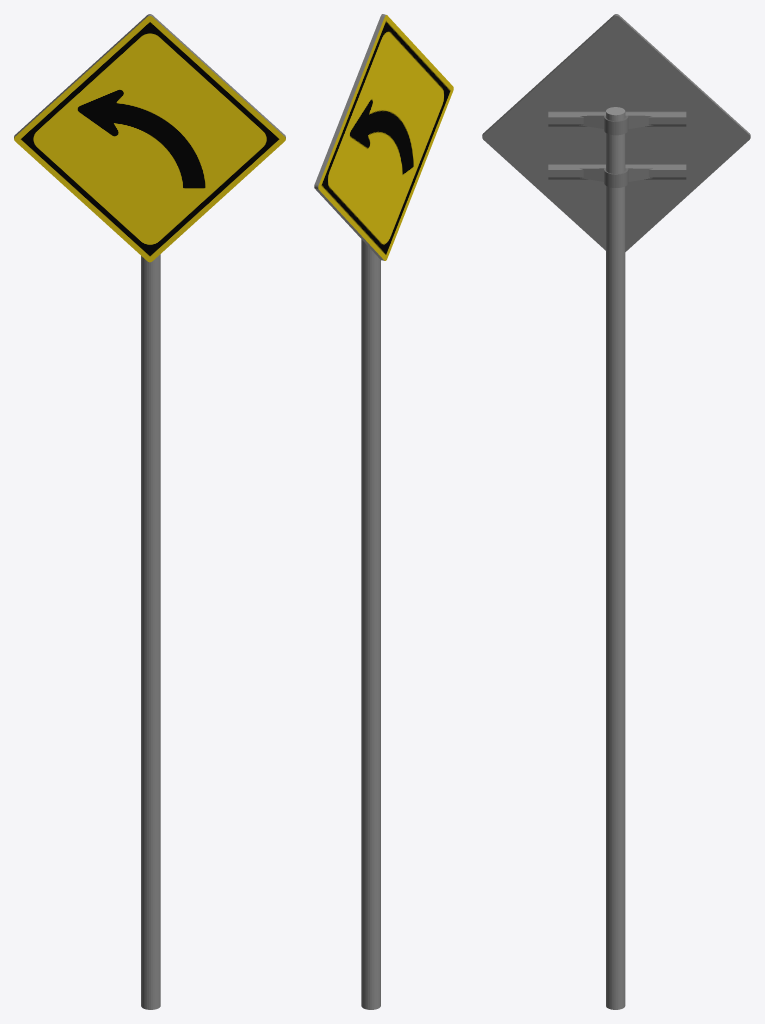
The picture shows the model from 3 angles, left to right: view 1: azimuth 90°, elevation 25°; view 2: azimuth 150°, elevation 25°; view 3: azimuth 270°, elevation 25°; orthographic projection.
Visible parts, largest first — view 1: 003, Prop; view 2: 003, Prop; view 3: 003, Prop.
Part boxes in pixels (left/top/right/bottom): 003: left=14, top=14, right=285, bottom=262; Prop: left=141, top=254, right=160, bottom=1009; 003: left=314, top=14, right=453, bottom=260; Prop: left=361, top=239, right=380, bottom=1009; 003: left=482, top=14, right=750, bottom=251; Prop: left=548, top=107, right=686, bottom=1009.
Size of the model in its own units: 6.76 by 259 by 63.95.
